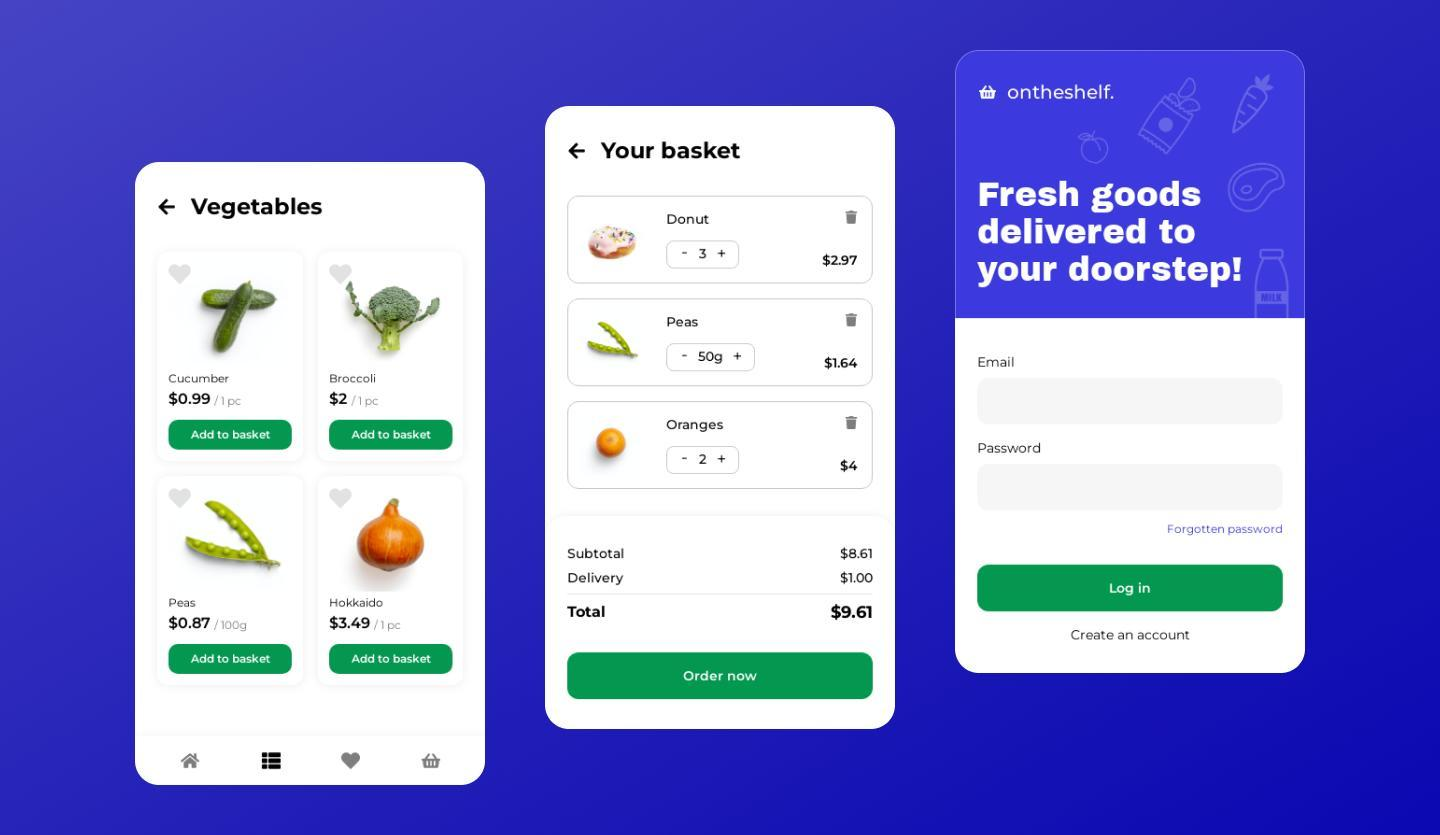button: (974, 562, 1288, 614), (568, 651, 877, 700), (166, 420, 296, 454), (169, 641, 296, 675), (327, 643, 455, 675), (328, 418, 456, 449)
icon: (844, 415, 863, 436), (844, 310, 861, 332), (844, 205, 858, 231)
input: (976, 462, 1289, 514), (977, 378, 1289, 424)
label: (974, 439, 1046, 456), (976, 353, 1018, 369)
